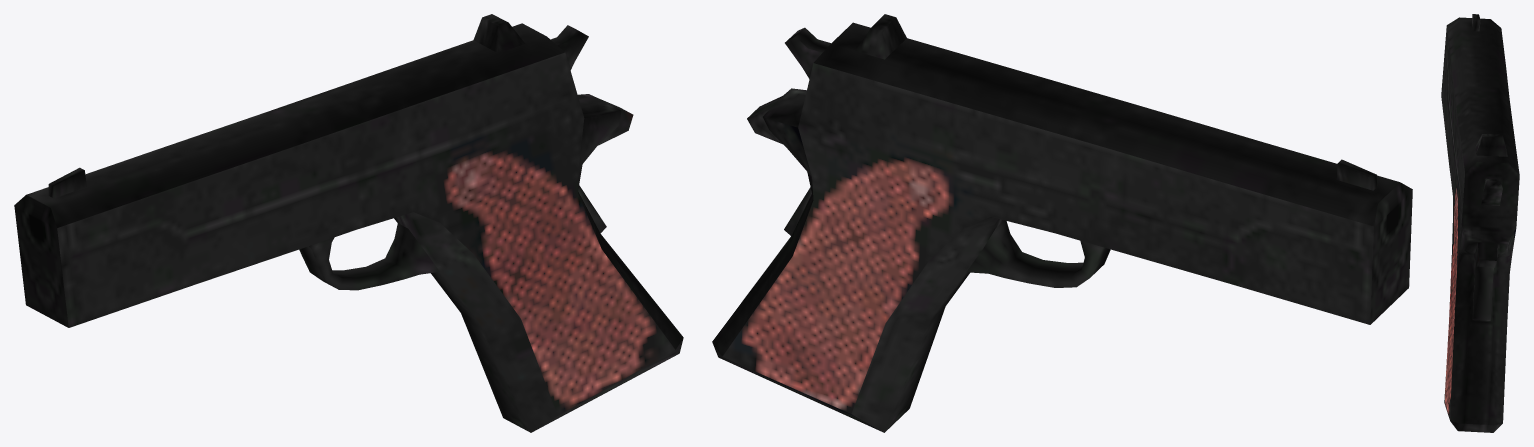
The model's file is deadpool_gun.glb.
3 renders of one model, left to right at view 1: azimuth 30°, elevation 25°; view 2: azimuth 150°, elevation 25°; view 3: azimuth 270°, elevation 25°, orthographic. The views are drawn at different scales.
Visible parts, largest first — view 1: weapons/deadpool_gun_0; view 2: weapons/deadpool_gun_0; view 3: weapons/deadpool_gun_0.
Boxes of the visible parts, box(x1,y1,x2,y2) form: weapons/deadpool_gun_0: box(14, 14, 683, 432); weapons/deadpool_gun_0: box(712, 14, 1412, 432); weapons/deadpool_gun_0: box(1441, 14, 1519, 432).
Bounding box in the file's own units: 2 × 1.19 × 0.3111.
Materials: 1 (1 with a texture image).
